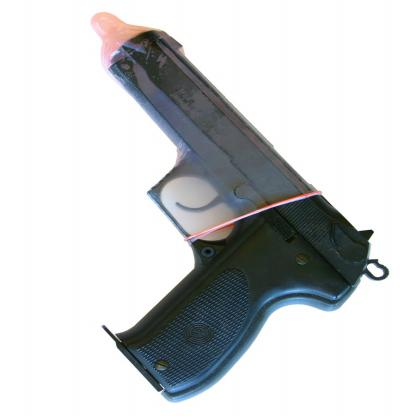Handgun: (101, 30, 389, 403)
